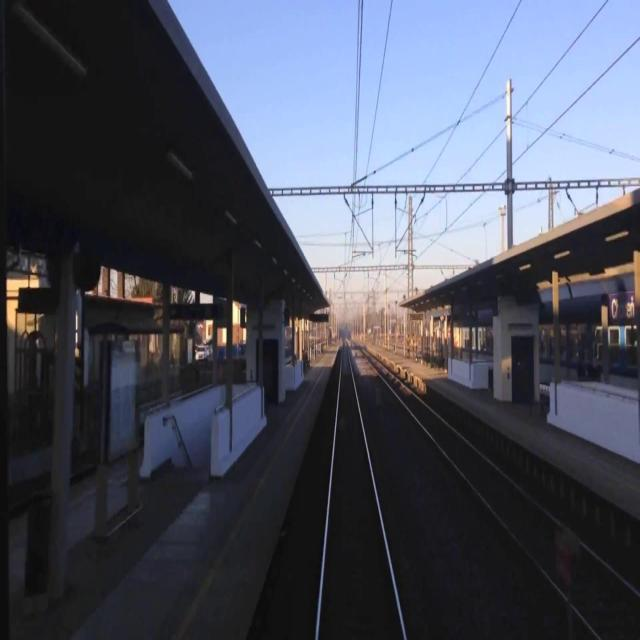rail-track: (364, 353, 640, 639), (320, 345, 402, 639)
